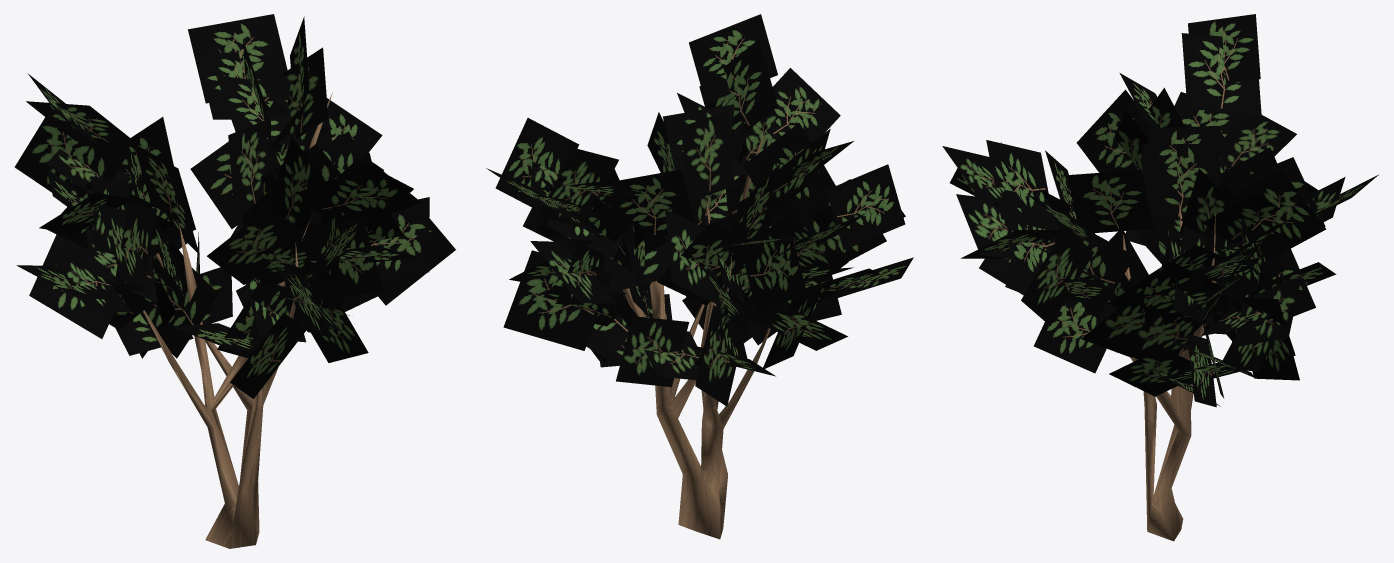
Rendered from Arbousier_V10_2_LOD2.fbx.
The picture shows the model from 3 angles, left to right: view 1: azimuth 30°, elevation 25°; view 2: azimuth 150°, elevation 25°; view 3: azimuth 270°, elevation 25°; orthographic projection. The views are drawn at different scales.
Parts seen in each view (by area): view 1: Arbousier_V10_2_LOD2; view 2: Arbousier_V10_2_LOD2; view 3: Arbousier_V10_2_LOD2.
Part boxes in pixels (bbox=[...]): Arbousier_V10_2_LOD2: bbox=[14, 14, 455, 548]; Arbousier_V10_2_LOD2: bbox=[486, 14, 913, 539]; Arbousier_V10_2_LOD2: bbox=[942, 14, 1378, 541].
Size of the model in its own units: 209 by 254 by 225.
